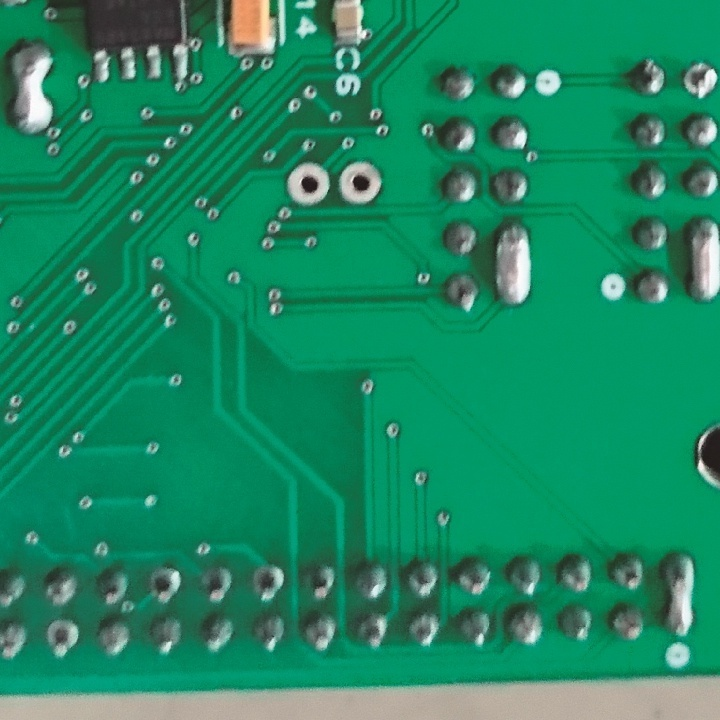F: (336, 157, 386, 209), (283, 159, 332, 209), (681, 61, 719, 104), (45, 616, 80, 662), (250, 561, 286, 604), (147, 567, 184, 604)
P: (4, 39, 55, 137), (490, 218, 536, 314), (661, 547, 699, 640), (687, 209, 720, 305)
